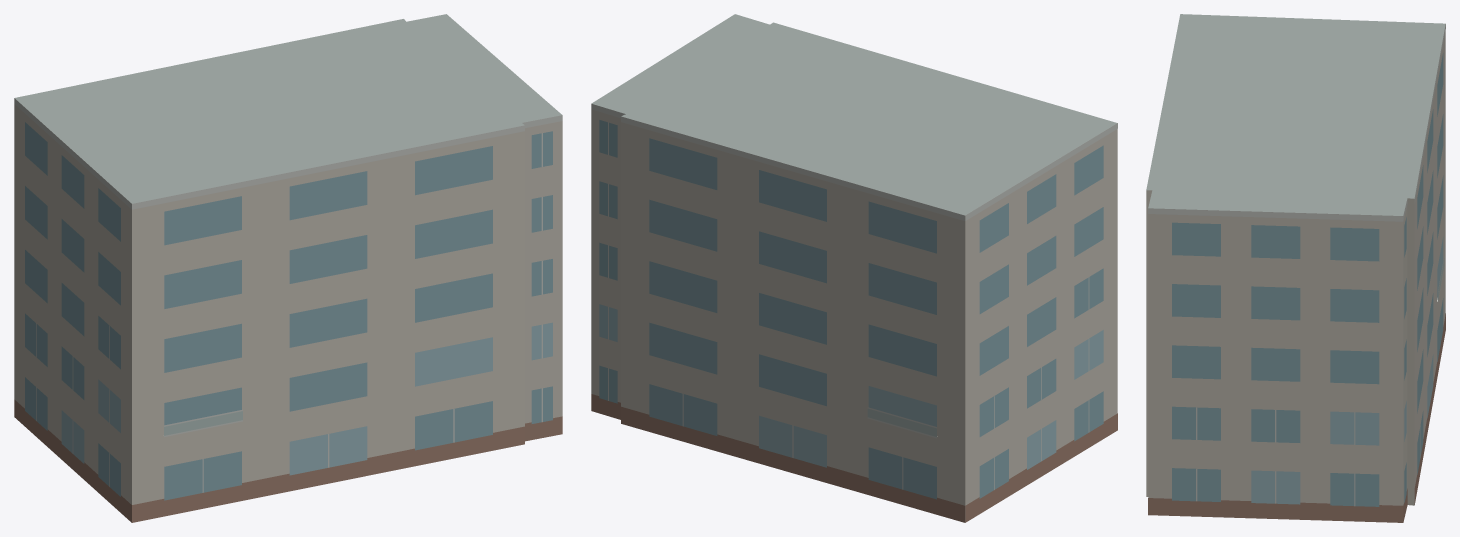
The model's file is survey-upis-32987047.glb.
3 views of the same model, side by side, from view 1: azimuth 30°, elevation 25°; view 2: azimuth 150°, elevation 25°; view 3: azimuth 270°, elevation 25° (orthographic). The views are drawn at different scales.
Parts seen in each view (by area): view 1: survey-upis-32987047.tmp; view 2: survey-upis-32987047.tmp; view 3: survey-upis-32987047.tmp.
Boxes of the visible parts, x1,y1,x2,y2 form: survey-upis-32987047.tmp: (14, 14, 562, 522); survey-upis-32987047.tmp: (591, 14, 1117, 522); survey-upis-32987047.tmp: (1146, 14, 1445, 522).
Bounding box in the file's own units: 18.8 × 13.3 × 11.78.
